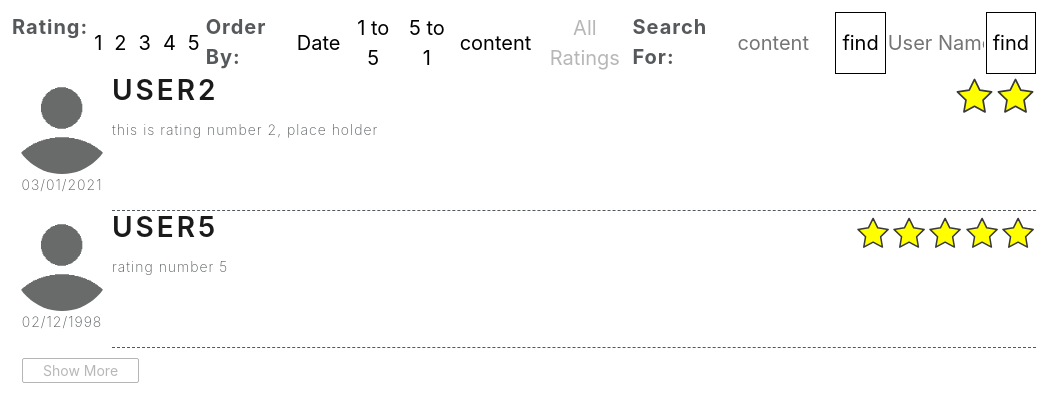
Test: with rating › Choose Rating
The image size is (1048, 400).
Click the button "5": [194, 43] box 182,12 -> 206,74
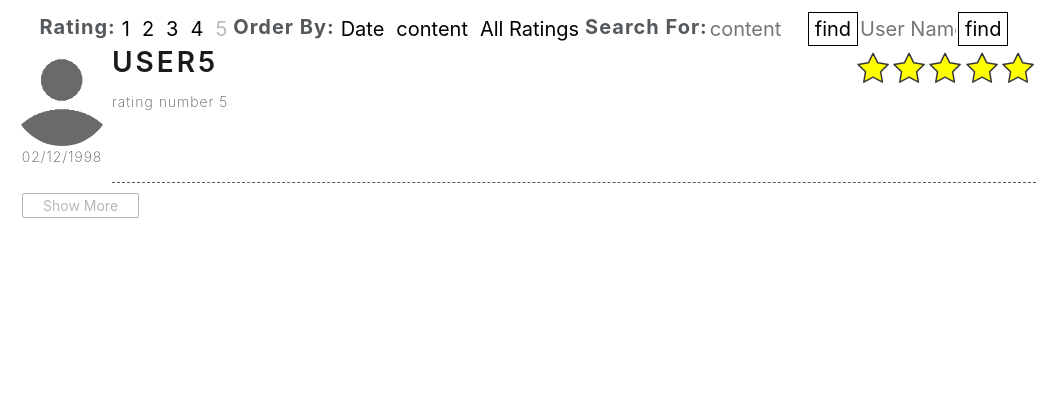
Expected: the heading "user5" is shown, 112,45 -> 218,79
Expected: the heading "user2" is gone
